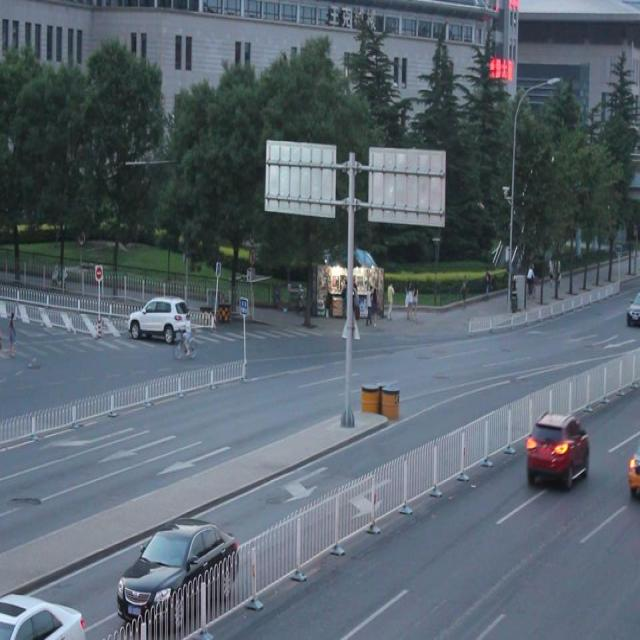car: (115, 512, 241, 622), (524, 407, 590, 487), (0, 588, 86, 640), (128, 294, 190, 342)
